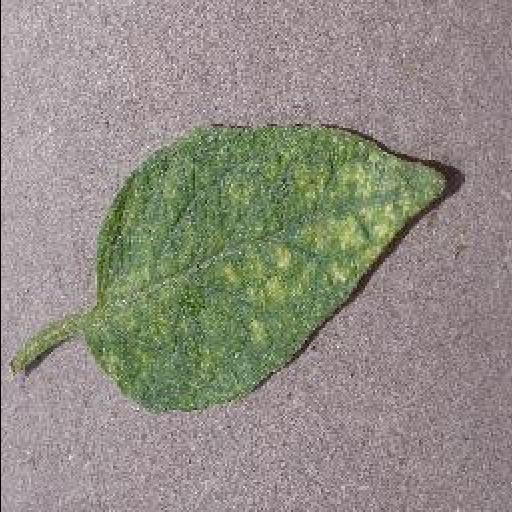disease_tomato: (85, 124, 451, 414)
